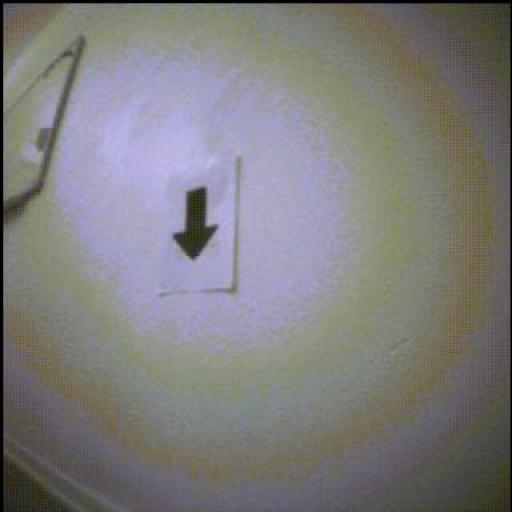Arrow: (174, 188, 219, 260)
